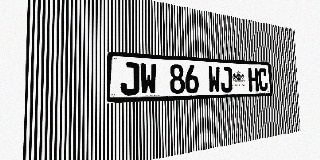6: (185, 65, 199, 94)
8: (169, 64, 185, 94)
C: (258, 68, 268, 91)
H: (248, 68, 259, 92)
J: (120, 62, 139, 96), (220, 66, 232, 92)
W: (140, 63, 157, 95), (208, 66, 221, 93)
